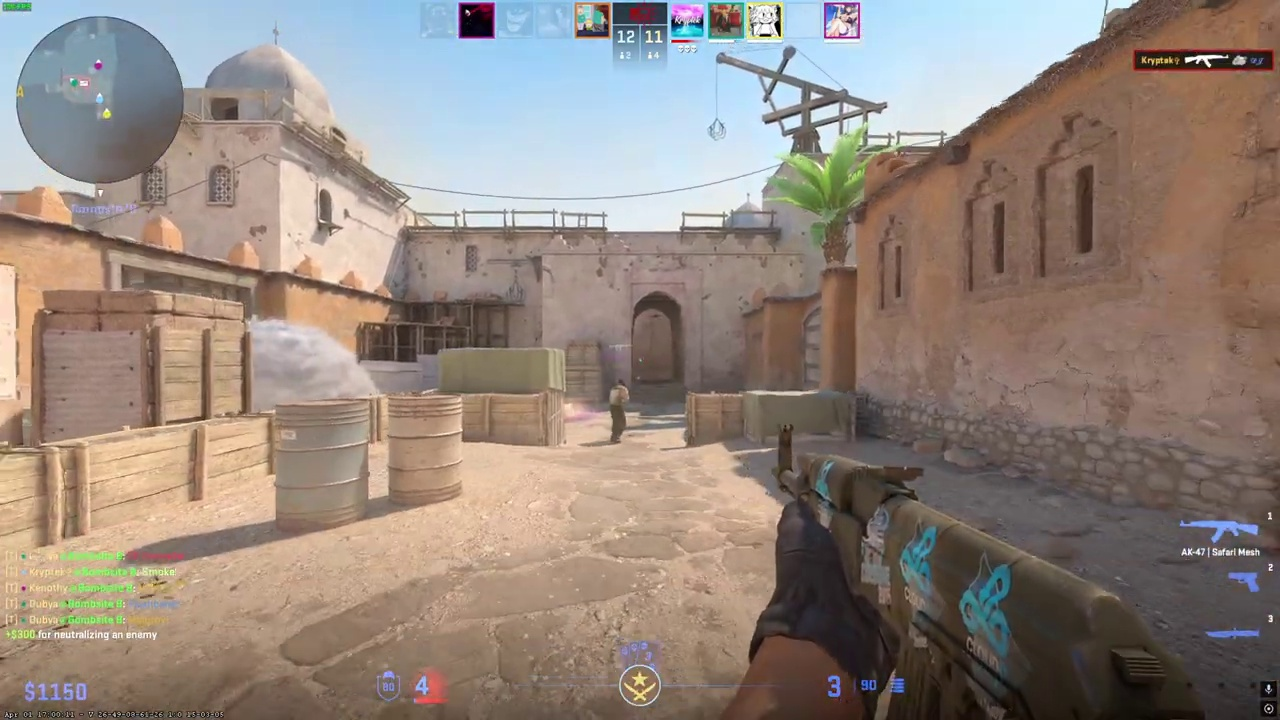Terrorist: (609, 379, 630, 443)
